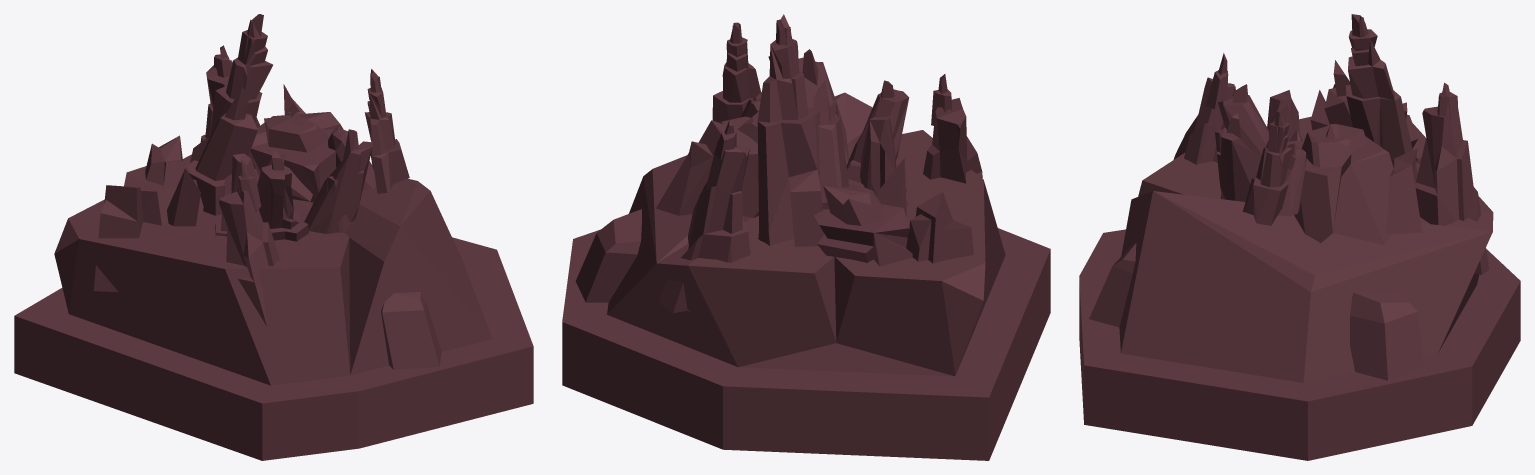
Rendered from island-spikes.fbx.
3 renders of one model, left to right at view 1: azimuth 30°, elevation 25°; view 2: azimuth 150°, elevation 25°; view 3: azimuth 270°, elevation 25°, orthographic. The views are drawn at different scales.
Visible parts, largest first — view 1: island-spikes; view 2: island-spikes; view 3: island-spikes.
Boxes of the visible parts, box(x1,y1,x2,y2) form: island-spikes: box(14, 14, 533, 460); island-spikes: box(562, 14, 1050, 460); island-spikes: box(1079, 14, 1520, 460).
Bounding box in the file's own units: 102 × 74.69 × 87.94.
